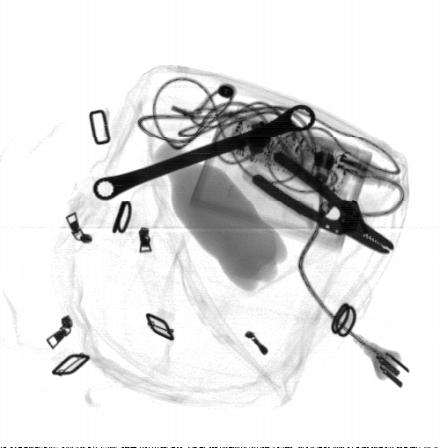Pliers: (240, 146, 395, 254)
Wrench: (92, 104, 316, 202)
